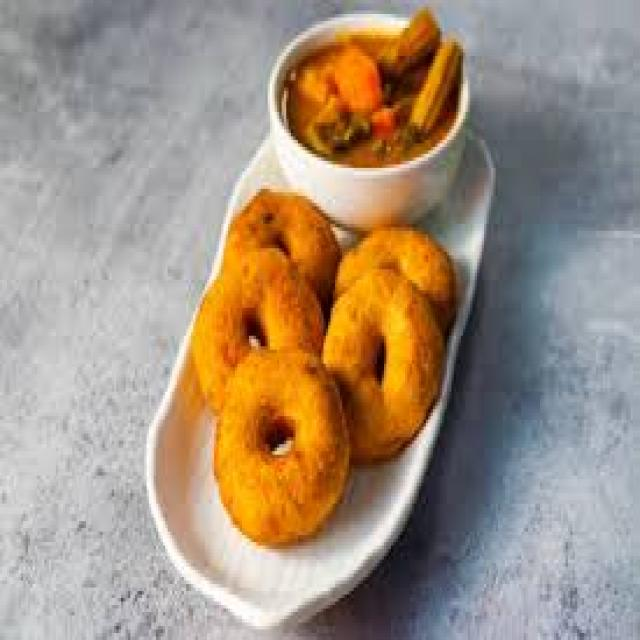MEDU VADA: (216, 346, 347, 539), (321, 269, 442, 458), (193, 241, 321, 409), (230, 189, 340, 304)
